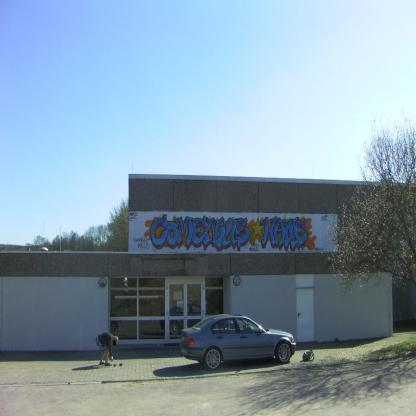car: (180, 312, 296, 371)
